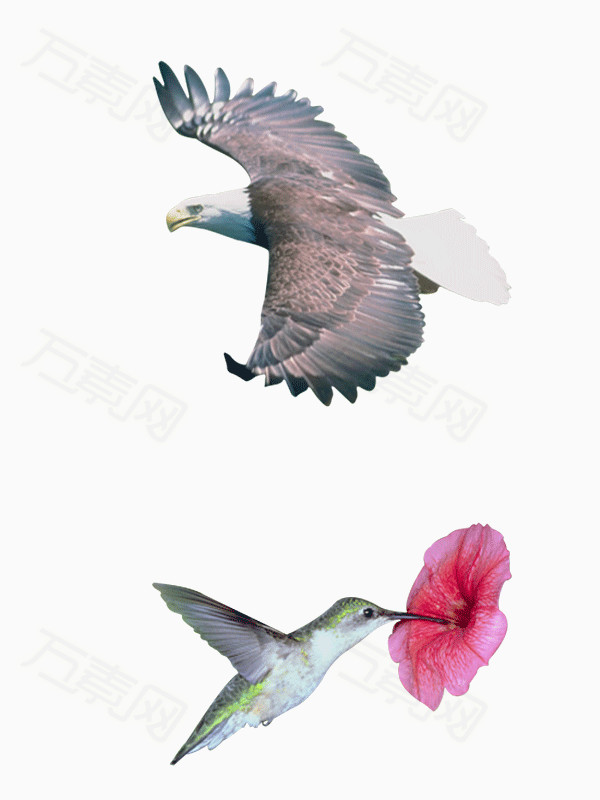bird: (144, 56, 440, 404), (151, 586, 443, 765)
